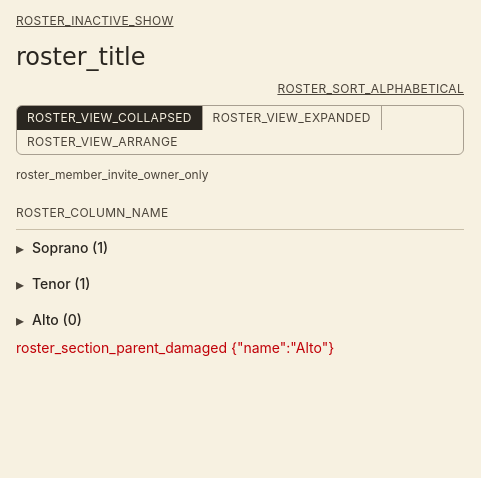
it: /roster — a section with ≠1 `_parent` values renders as DAMAGED DATA, loudly (#264 item 5) › arrange mode: the damaged node offers NO arrange affordances (no enabled indent/unindent, nothing draggable), the marker stays visible, and clean rows keep thei
Click the button "roster_view_arrange". click: {"x": 102, "y": 142}
box: [17, 130, 188, 154]
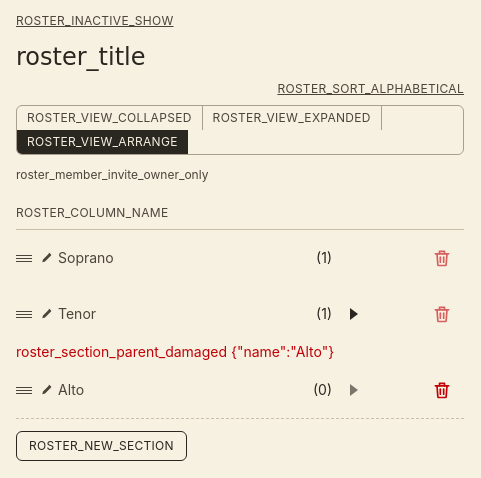
Result: the button with test id "arrange-indent-sec-tenor" is enabled at [332, 292, 376, 336]
